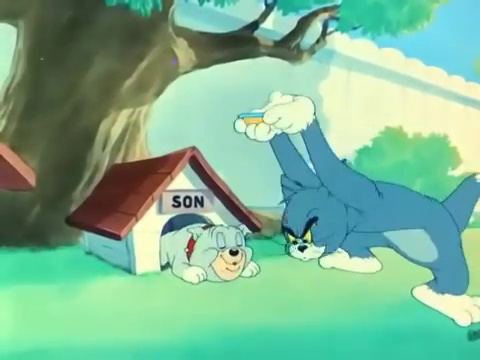tom: (276, 174, 352, 265)
